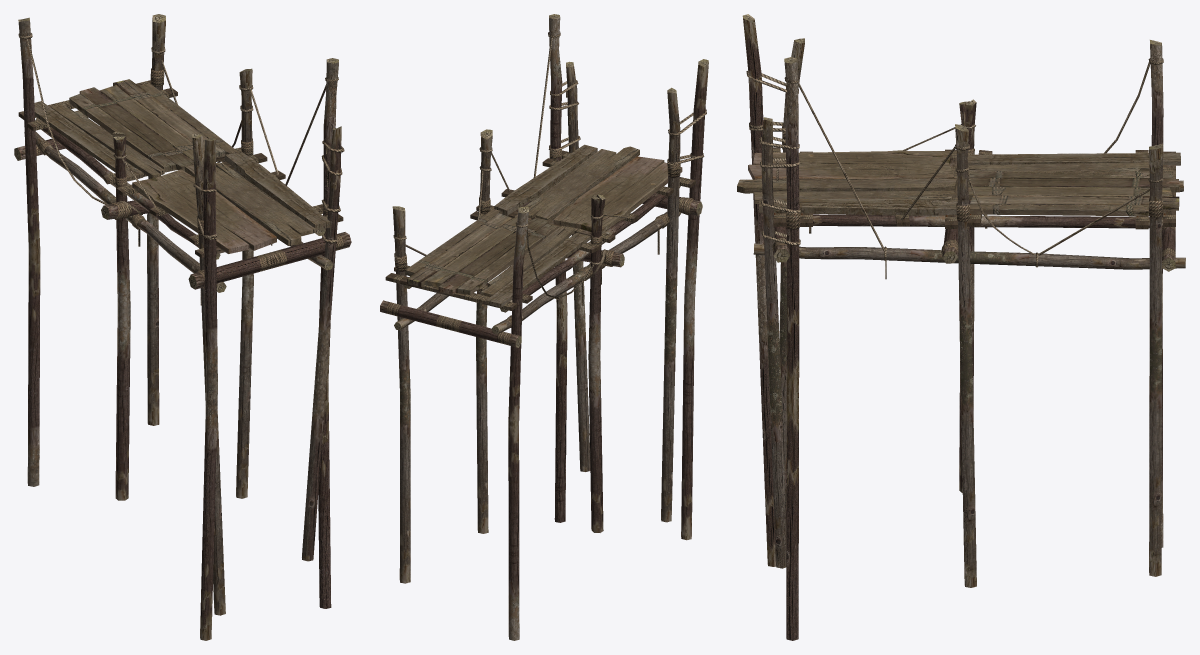
The model's file is Ferry01.FBX.
The picture shows the model from 3 angles, left to right: view 1: azimuth 30°, elevation 25°; view 2: azimuth 150°, elevation 25°; view 3: azimuth 270°, elevation 25°; orthographic projection. The views are drawn at different scales.
Parts seen in each view (by area): view 1: LV_TurtleLake_Object_Ferry01_SM_KSR; view 2: LV_TurtleLake_Object_Ferry01_SM_KSR; view 3: LV_TurtleLake_Object_Ferry01_SM_KSR.
Boxes of the visible parts, x1,y1,x2,y2 form: LV_TurtleLake_Object_Ferry01_SM_KSR: [14, 14, 351, 640]; LV_TurtleLake_Object_Ferry01_SM_KSR: [380, 14, 708, 640]; LV_TurtleLake_Object_Ferry01_SM_KSR: [737, 14, 1185, 640].
Bounding box in the file's own units: 90.5 × 291 × 204.
